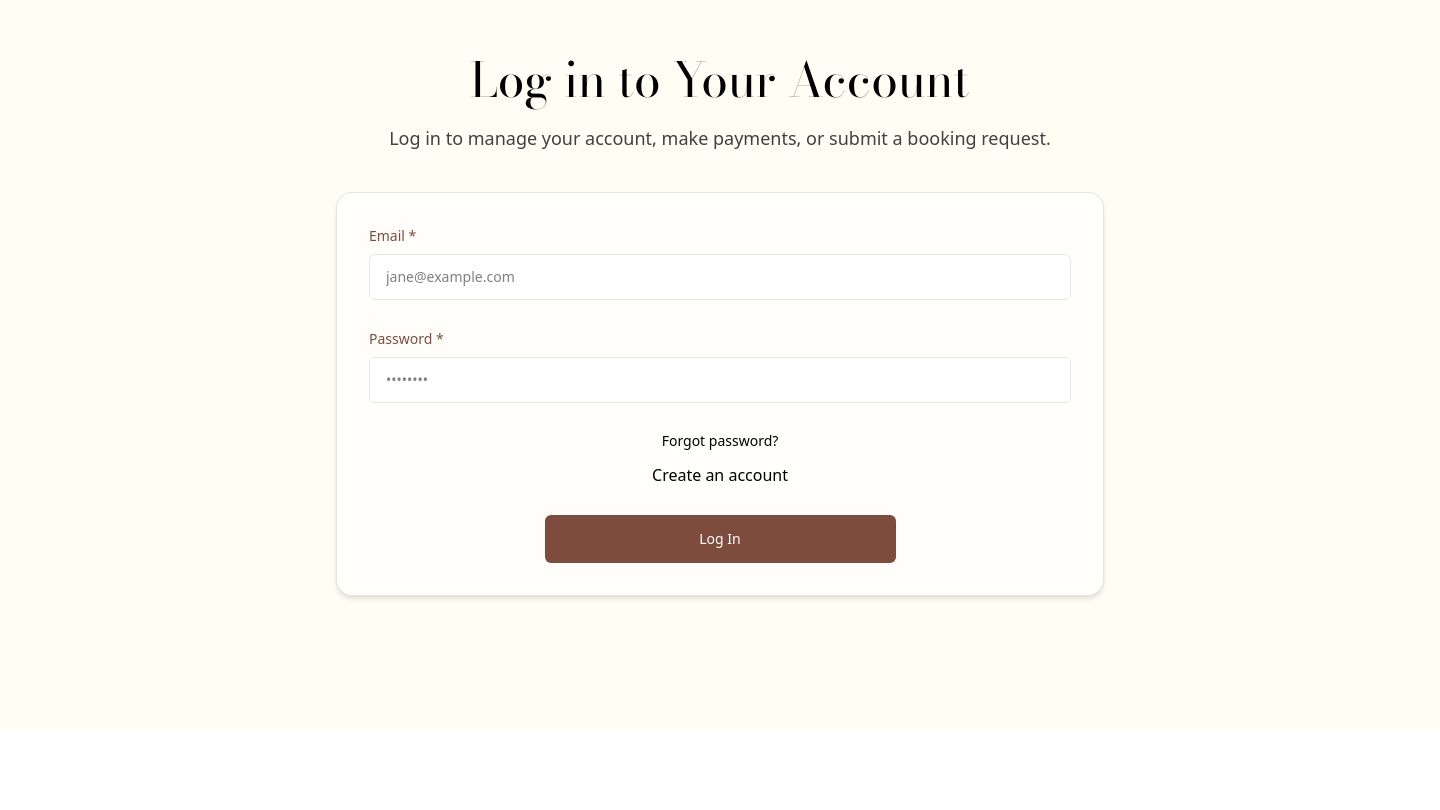
Scenario: Login › clears field error on input change
Click the button with aria-label "login-button" at point(720, 539), box 544,515 -> 896,563
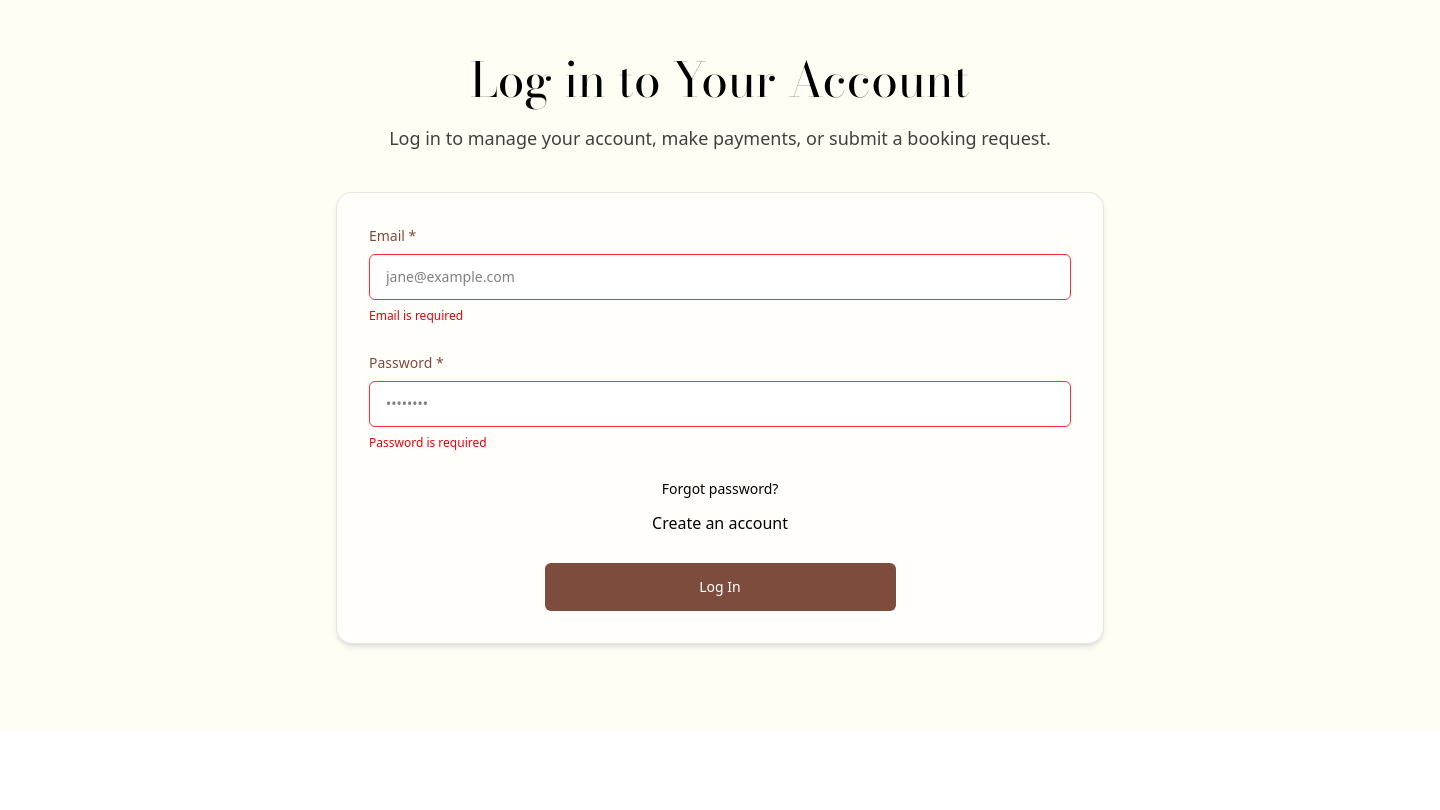
expect the text "Email is required" is shown: met, box 369,307 -> 463,324
Type "test@test.com" into the field with placeholder "jane@example.com" at point(720, 277), box 369,254 -> 1071,300
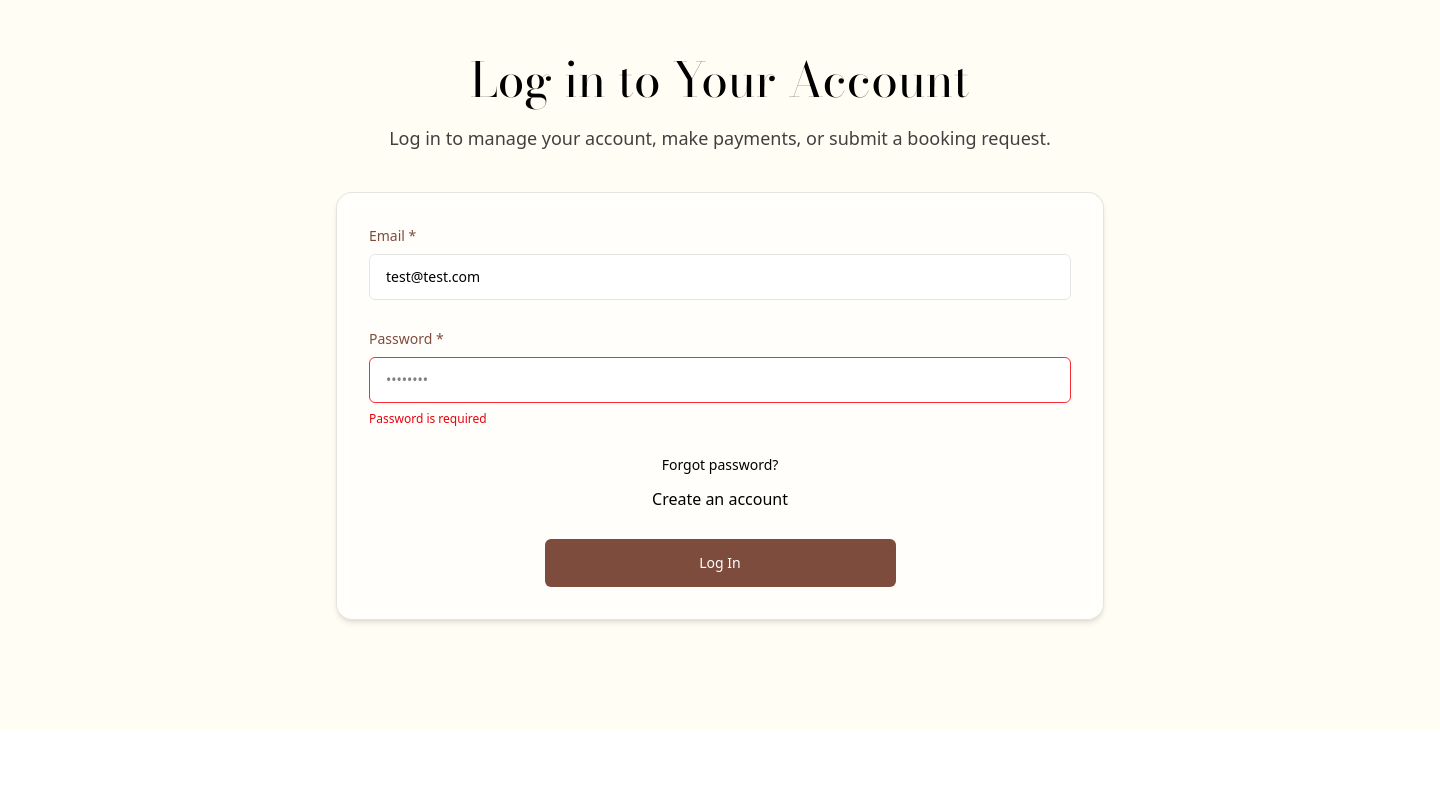
expect the text "Email is required" is gone: met
